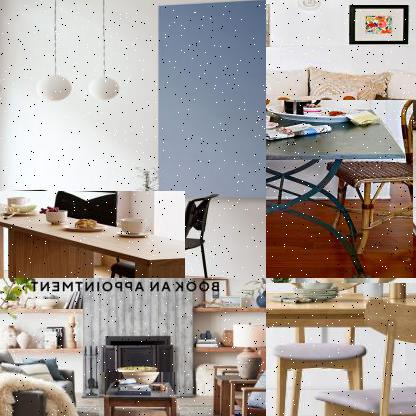table: (266, 100, 414, 277), (266, 283, 415, 415), (0, 191, 185, 277), (98, 372, 181, 415)
